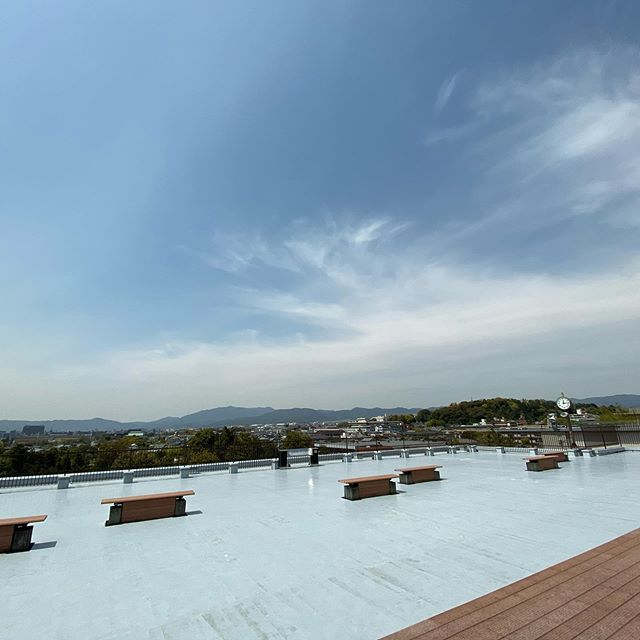bench: (95, 483, 204, 528), (333, 470, 406, 504), (1, 511, 49, 552), (393, 461, 445, 486), (517, 452, 569, 477)
sky: (6, 1, 640, 401)
